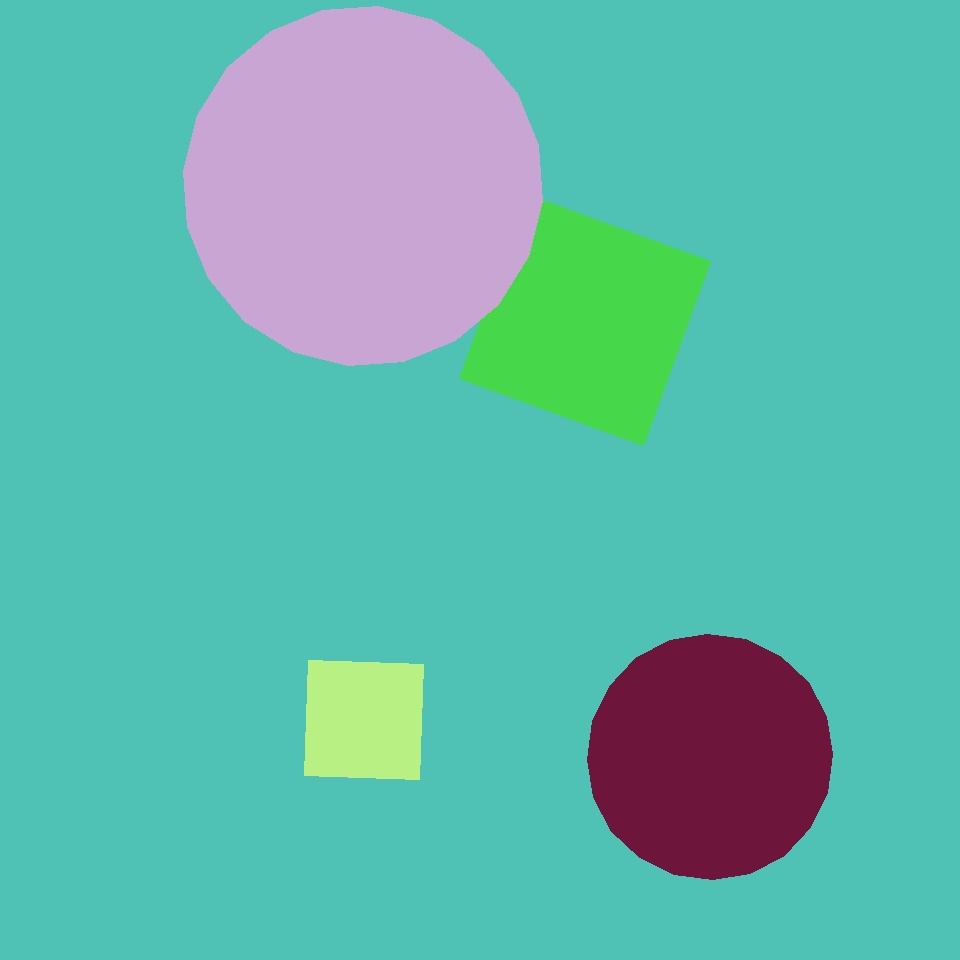circle: (554, 327, 740, 540), (636, 580, 716, 660)
square: (362, 435, 725, 798), (575, 546, 842, 813), (160, 681, 416, 936), (460, 194, 710, 446), (224, 199, 395, 370), (304, 660, 424, 780)
triangle: (184, 7, 542, 366), (588, 635, 832, 880)
